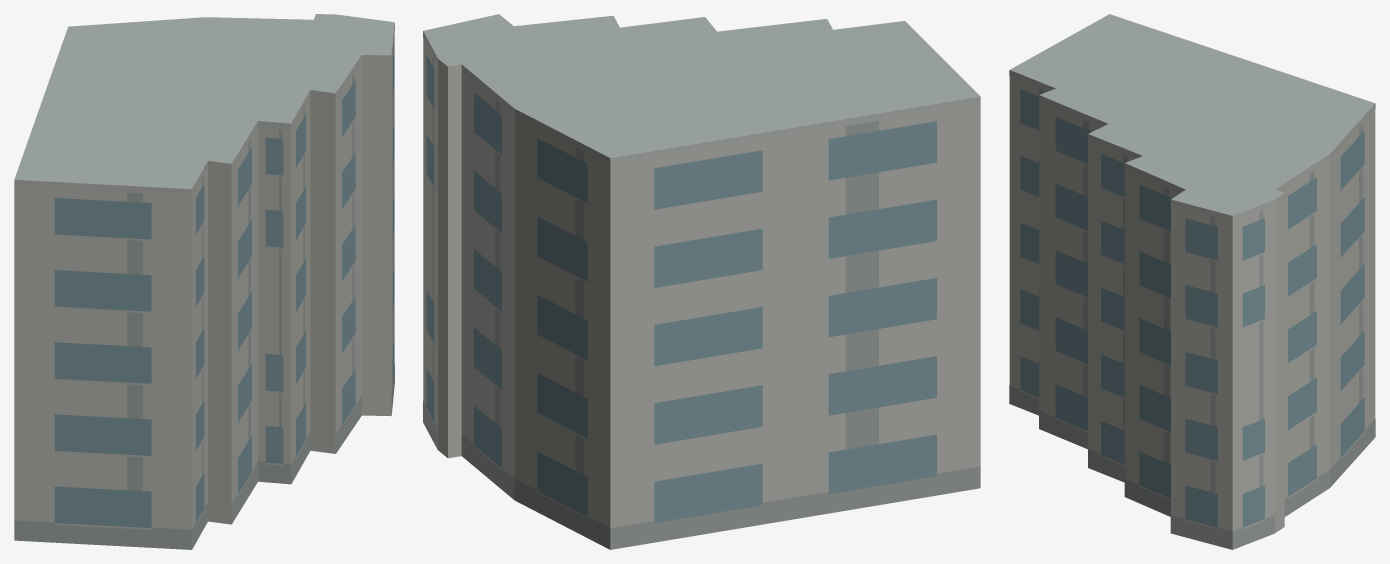
The model's file is survey-upis-32988811.glb.
3 renders of one model, left to right at view 1: azimuth 30°, elevation 25°; view 2: azimuth 150°, elevation 25°; view 3: azimuth 270°, elevation 25°, orthographic. The views are drawn at different scales.
Parts seen in each view (by area): view 1: survey-upis-32988811.tmp; view 2: survey-upis-32988811.tmp; view 3: survey-upis-32988811.tmp.
Part boxes in pixels (x1,y1,x2,y2): survey-upis-32988811.tmp: (14, 14, 394, 549); survey-upis-32988811.tmp: (423, 14, 980, 549); survey-upis-32988811.tmp: (1009, 14, 1375, 549).
Bounding box in the file's own units: 17 × 13.1 × 13.01.
